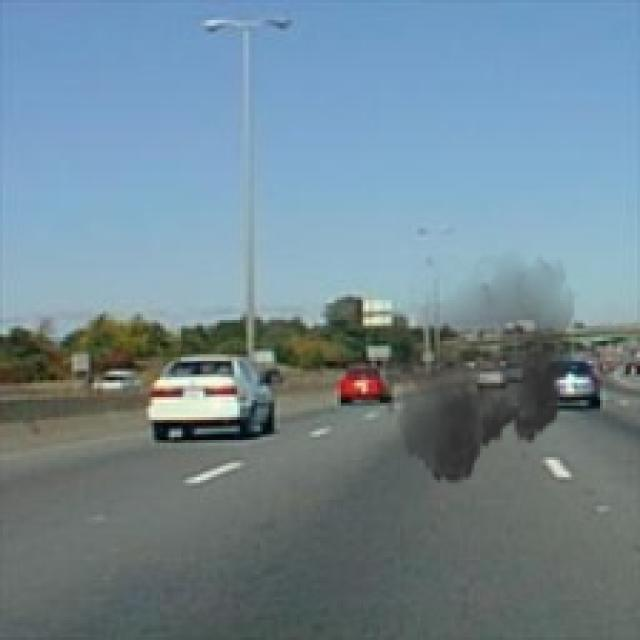smoke: (354, 243, 580, 494)
